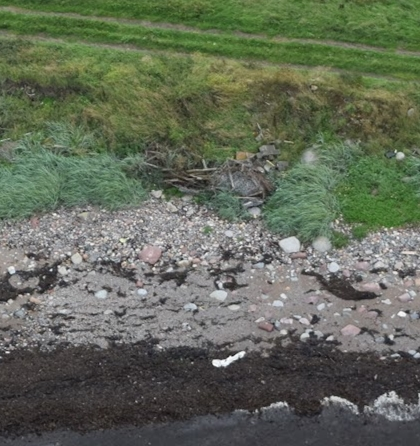white_in_green: (199, 331, 262, 388)
wood_together: (144, 143, 283, 208)
